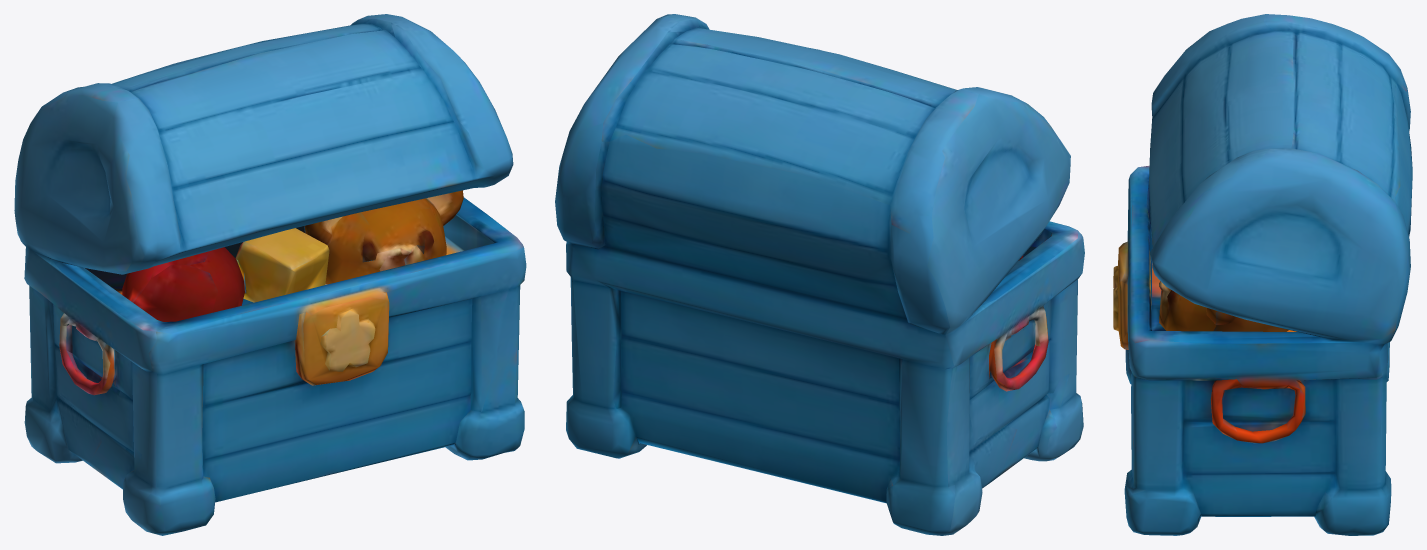
File: toy_box.glb
3 views of the same model, side by side, from view 1: azimuth 30°, elevation 25°; view 2: azimuth 150°, elevation 25°; view 3: azimuth 270°, elevation 25° (orthographic). The views are drawn at different scales.
Visible parts, largest first — view 1: textured_mesh.obj; view 2: textured_mesh.obj; view 3: textured_mesh.obj.
Boxes of the visible parts, x1,y1,x2,y2 form: textured_mesh.obj: [14, 14, 526, 535]; textured_mesh.obj: [555, 14, 1084, 535]; textured_mesh.obj: [1113, 14, 1412, 535].
Size of what is drawn, in the model's own units: 0.6376 by 0.6 by 0.4425.
1 material, 1 textured.
